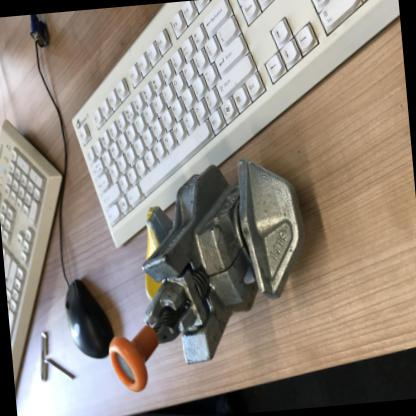Twistlock: (91, 143, 327, 400)
